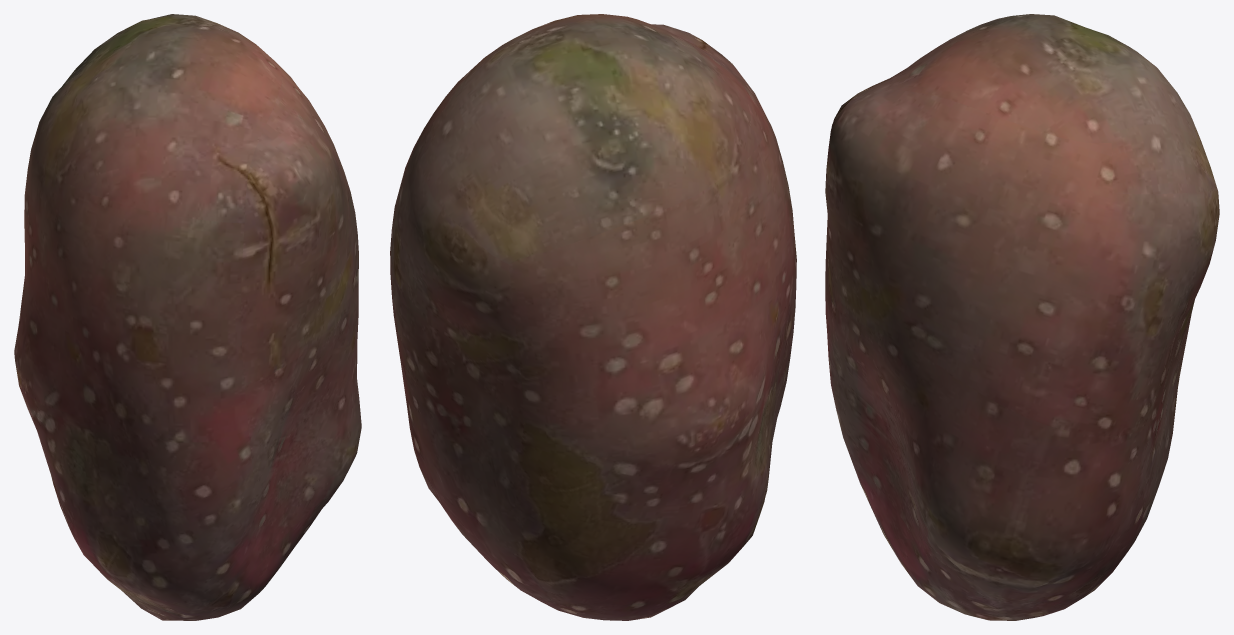
File: sweet_potato.glb
3 renders of one model, left to right at view 1: azimuth 30°, elevation 25°; view 2: azimuth 150°, elevation 25°; view 3: azimuth 270°, elevation 25°, orthographic. The views are drawn at different scales.
Visible parts, largest first — view 1: sweet_potato; view 2: sweet_potato; view 3: sweet_potato.
Part boxes in pixels (x1=…): sweet_potato: x1=14, y1=14, x2=361, y2=620; sweet_potato: x1=390, y1=14, x2=796, y2=620; sweet_potato: x1=825, y1=14, x2=1219, y2=620.
Size of the model in its own units: 0.0581 by 0.1005 by 0.061.
1 material, 1 textured.
